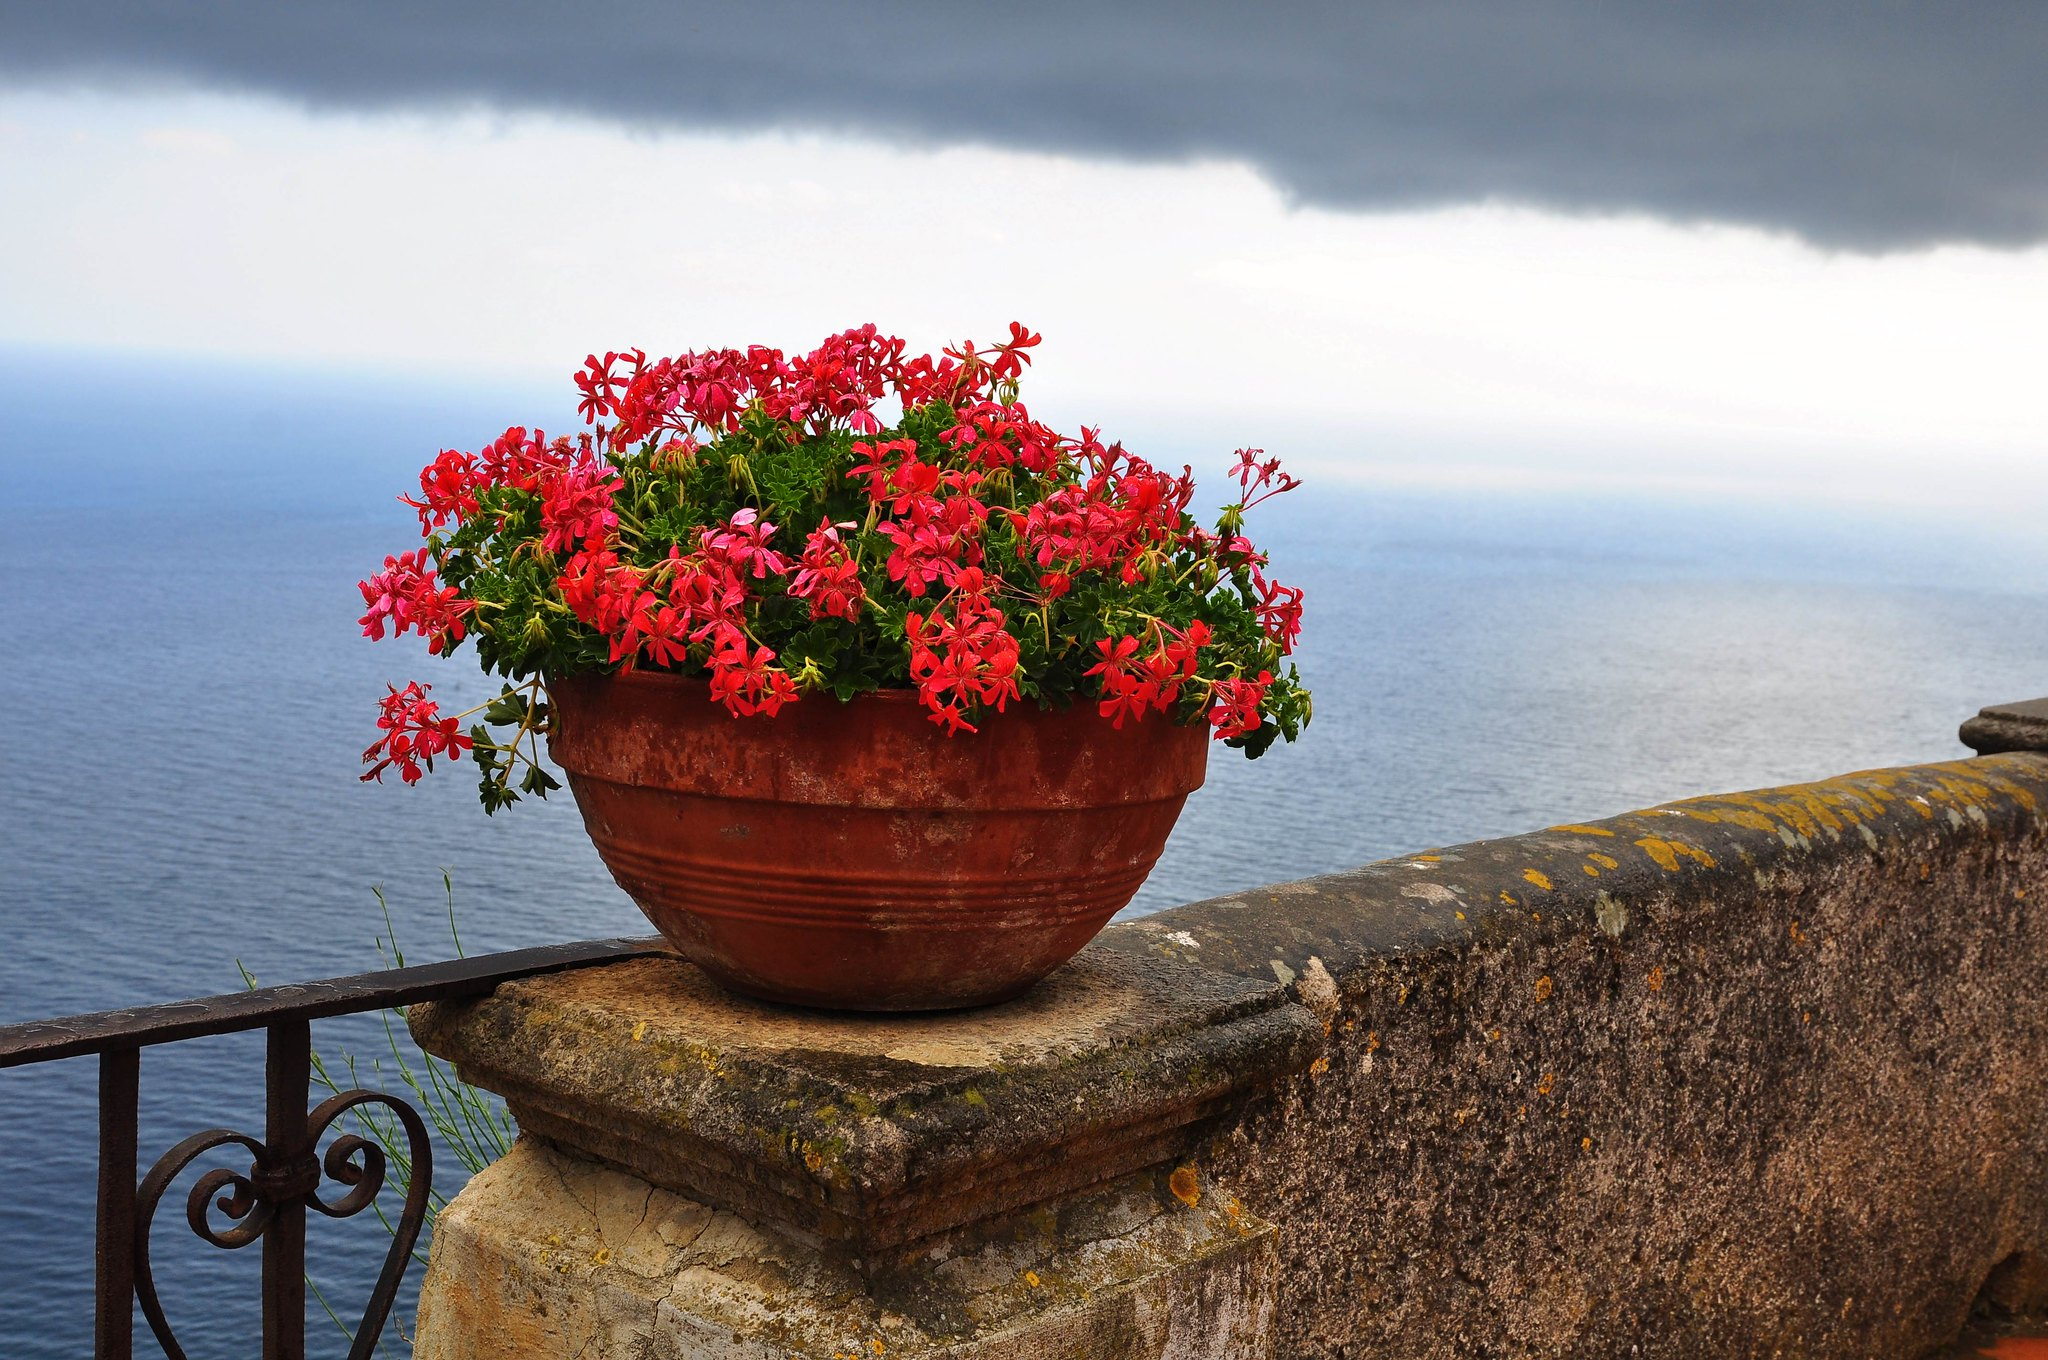potted plant: (526, 358, 1235, 1012)
